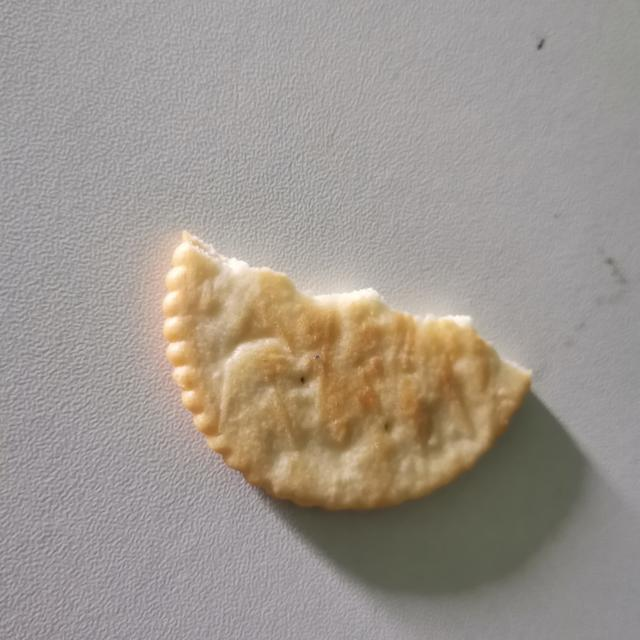Broken: (161, 229, 533, 512)
